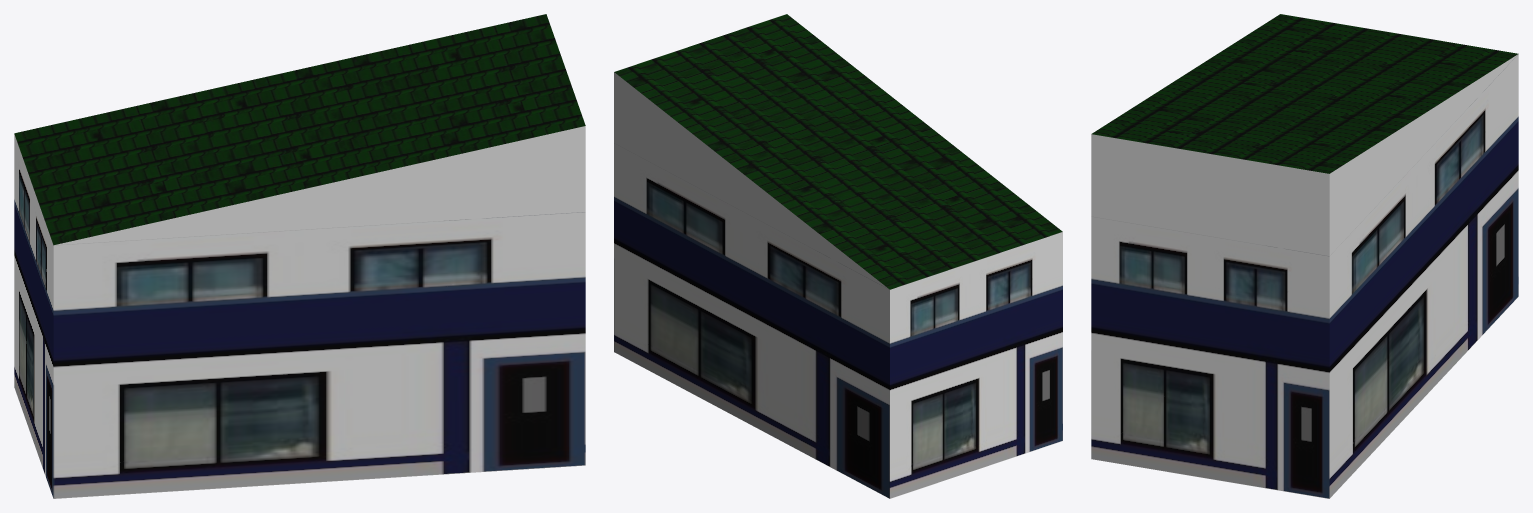
The picture shows the model from 3 angles, left to right: view 1: azimuth 30°, elevation 25°; view 2: azimuth 150°, elevation 25°; view 3: azimuth 270°, elevation 25°; orthographic projection. The views are drawn at different scales.
Visible parts, largest first — view 1: CityEngineMaterial_2_m, CityEngineMaterial_13_m, CityEngineMaterial_3_m; view 2: CityEngineMaterial_2_m, CityEngineMaterial_13_m, CityEngineMaterial_3_m; view 3: CityEngineMaterial_2_m, CityEngineMaterial_13_m, CityEngineMaterial_3_m.
Boxes of the visible parts, <box> form: CityEngineMaterial_2_m: <box>14,134,585,498</box>; CityEngineMaterial_13_m: <box>14,14,585,245</box>; CityEngineMaterial_3_m: <box>54,126,585,245</box>; CityEngineMaterial_2_m: <box>614,143,1062,498</box>; CityEngineMaterial_13_m: <box>614,14,1062,289</box>; CityEngineMaterial_3_m: <box>614,72,889,289</box>; CityEngineMaterial_2_m: <box>1091,54,1518,498</box>; CityEngineMaterial_13_m: <box>1092,14,1518,173</box>; CityEngineMaterial_3_m: <box>1091,54,1517,255</box>.
Bounding box in the file's own units: 16.3 × 10.2 × 12.16.
